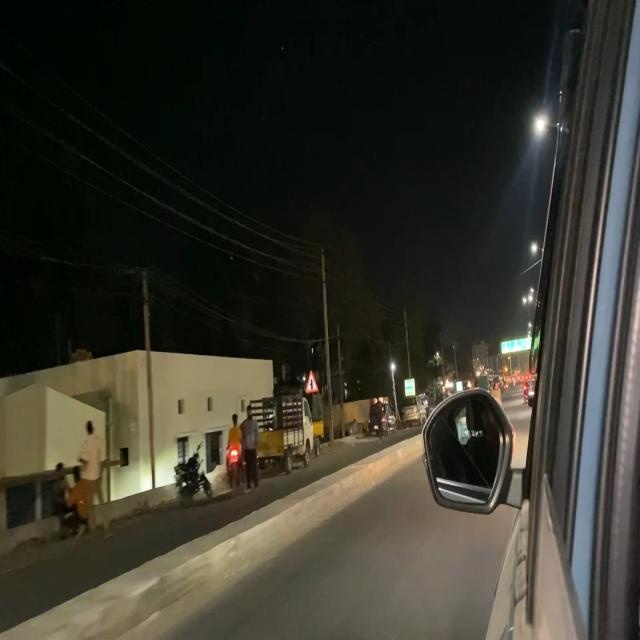bien_nguy_hiem: (304, 366, 319, 395)
